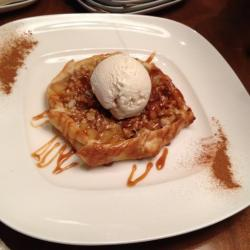apple_pie: (45, 43, 188, 170)
icecream: (90, 50, 159, 127)
